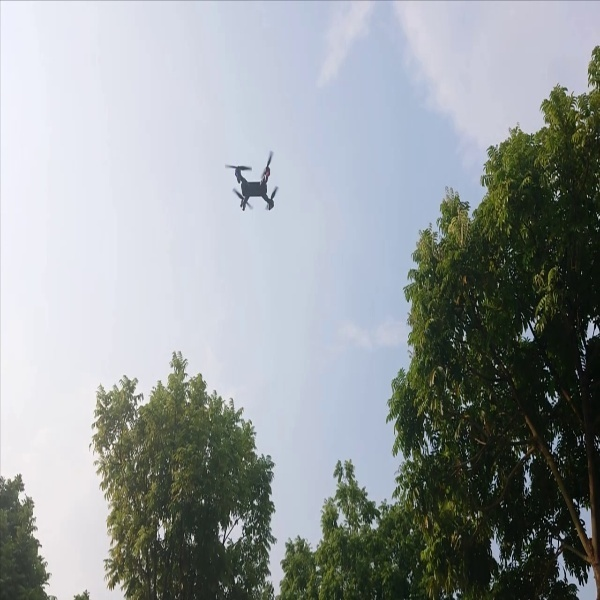drone: (225, 149, 288, 222)
